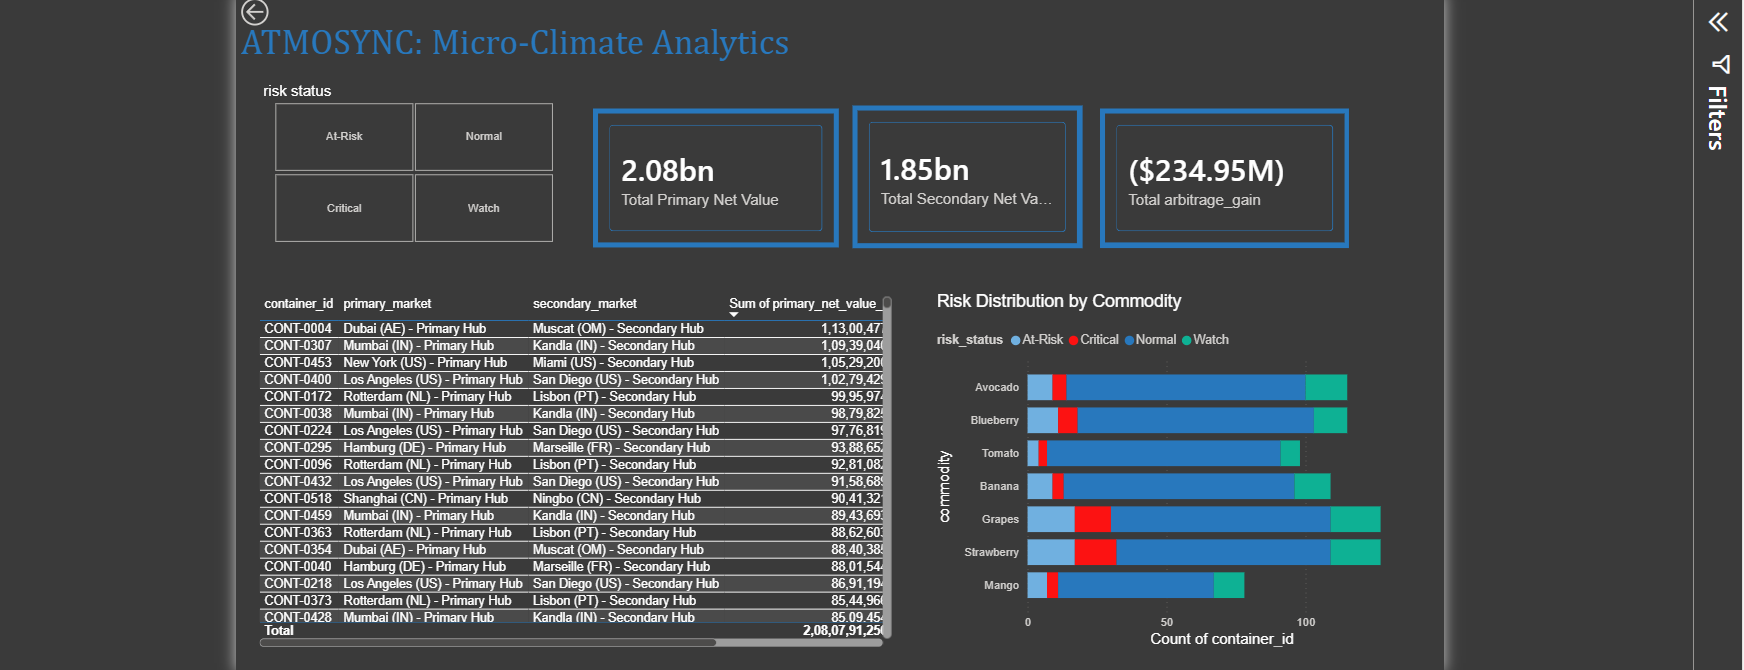

Layout of this report page (visuals, bound fields, positions):
{"tool":"powerbi","page":{"name":"Financial / Arbitrage Analysis","canvas":[1280,720],"ordinal":2},"visuals":[{"type":"textbox","box":[0,24.6,674.7,98.3],"z":0},{"type":"slicer","fields":{"Values":["cleaned_dataset.risk_status"]},"box":[15.9,89.1,343.9,181.4],"z":1000},{"type":"cardVisual","fields":{"Data":["Sum(cleaned_dataset.primary_net_value_usd)"]},"box":[378.6,122.5,260.8,147.4],"z":2000},{"type":"cardVisual","fields":{"Data":["Sum(cleaned_dataset.secondary_net_value_usd)"]},"box":[653.7,119.3,243.8,151.2],"z":3000},{"type":"cardVisual","fields":{"Data":["Sum(cleaned_dataset.arbitrage_gain_usd)"]},"box":[916.2,122.5,264,147.9],"z":4000},{"type":"tableEx","fields":{"Values":["cleaned_dataset.container_id","cleaned_dataset.primary_market","cleaned_dataset.secondary_market","Sum(cleaned_dataset.primary_net_value_usd)","Sum(cleaned_dataset.secondary_net_value_usd)"]},"box":[19.1,316.5,680.8,381.7],"z":5000},{"type":"actionButton","box":[0,0,100,40],"z":6000},{"type":"barChart","title":"Risk Distribution by Commodity","fields":{"Category":["cleaned_dataset.commodity"],"Y":["Count(cleaned_dataset.container_id)"],"Series":["cleaned_dataset.risk_status"]},"box":[738,316.5,529.7,381.7],"z":7000}]}

Visuals, with their boxes on the page's 1280x720 design canvas (x1, y1, x2, y2). These are canvas units, not pixel positions in the 1744x670 screenshot, which may show the page scaled, cropped or inside an application window:
textbox: l=0, t=25, r=675, b=123
slicer - cleaned_dataset.risk_status: l=16, t=89, r=360, b=270
cardVisual - Sum(cleaned_dataset.primary_net_value_usd): l=379, t=122, r=639, b=270
cardVisual - Sum(cleaned_dataset.secondary_net_value_usd): l=654, t=119, r=898, b=270
cardVisual - Sum(cleaned_dataset.arbitrage_gain_usd): l=916, t=122, r=1180, b=270
tableEx - cleaned_dataset.container_id x cleaned_dataset.primary_market: l=19, t=316, r=700, b=698
actionButton: l=0, t=0, r=100, b=40
"Risk Distribution by Commodity" barChart: l=738, t=316, r=1268, b=698
